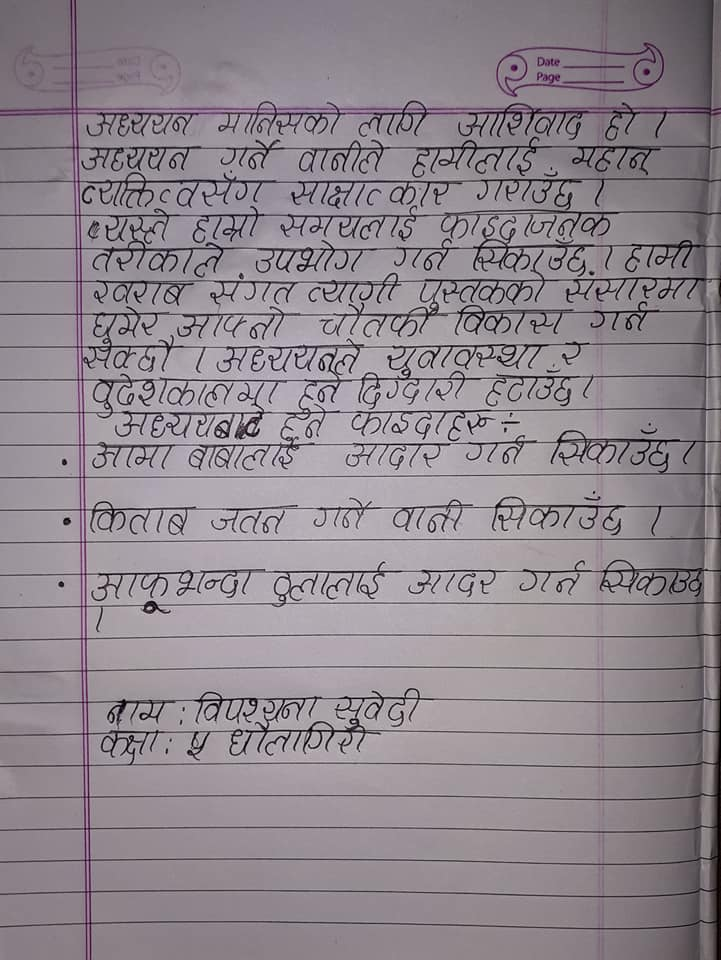text: (90, 567, 266, 613), (80, 172, 278, 209), (89, 372, 283, 409), (489, 490, 629, 537), (548, 423, 681, 472), (227, 720, 380, 762), (288, 174, 465, 209), (434, 209, 618, 241), (271, 561, 398, 607), (385, 339, 545, 375), (277, 204, 421, 243), (217, 339, 364, 375), (113, 404, 264, 439), (349, 405, 495, 441), (89, 241, 231, 278), (410, 138, 544, 177), (216, 99, 346, 137), (456, 101, 589, 138), (415, 270, 552, 305), (468, 238, 596, 275), (597, 557, 706, 600), (252, 238, 375, 275), (354, 371, 480, 407), (85, 499, 198, 539), (81, 104, 202, 141), (174, 305, 297, 341), (194, 690, 320, 725), (563, 272, 703, 303), (319, 303, 441, 338), (188, 438, 305, 473), (484, 364, 577, 407), (449, 305, 574, 336), (476, 173, 586, 208), (335, 688, 427, 728), (80, 143, 201, 172), (406, 565, 504, 599), (91, 277, 195, 308), (306, 273, 405, 305), (297, 140, 389, 174), (345, 441, 449, 471), (87, 206, 177, 240), (80, 341, 177, 372), (570, 143, 661, 176), (206, 273, 296, 306), (515, 558, 591, 597), (208, 501, 300, 533), (356, 99, 431, 138), (191, 204, 265, 243), (391, 499, 474, 533), (86, 306, 164, 342), (95, 726, 164, 765), (623, 239, 701, 273), (90, 441, 178, 471), (311, 496, 380, 533), (589, 301, 662, 334), (103, 697, 177, 728), (280, 402, 335, 443), (462, 436, 537, 466), (392, 238, 456, 273), (296, 371, 346, 412), (220, 137, 283, 169), (604, 100, 639, 141), (185, 729, 215, 762), (559, 338, 590, 368)
